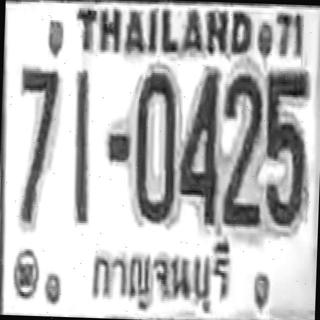N00: (132, 69, 178, 223)
N01: (70, 71, 92, 224)
N02: (220, 73, 264, 224), (220, 73, 264, 212)
N04: (177, 66, 221, 224)
N05: (262, 70, 310, 228)
N07: (15, 66, 60, 226)
P17: (82, 232, 235, 314)
